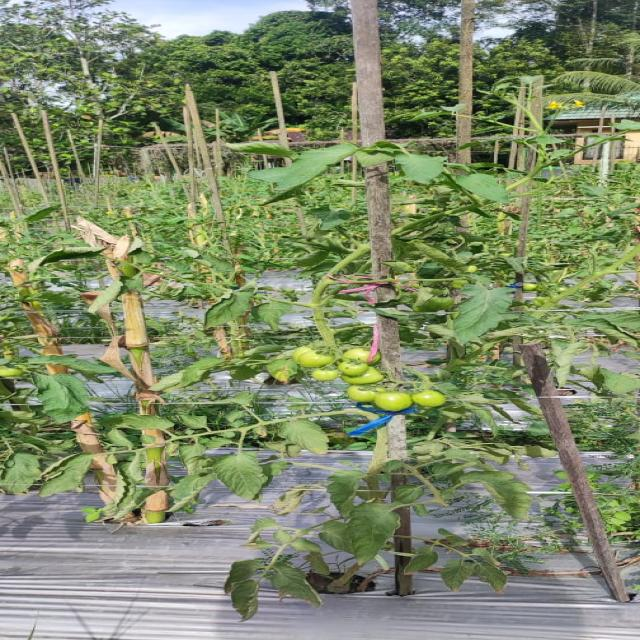unripe tomato: (372, 391, 411, 411), (410, 389, 446, 406)
